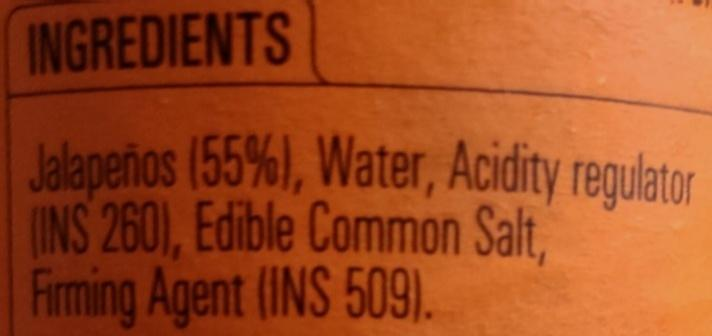ingredients: (11, 10, 712, 332)
